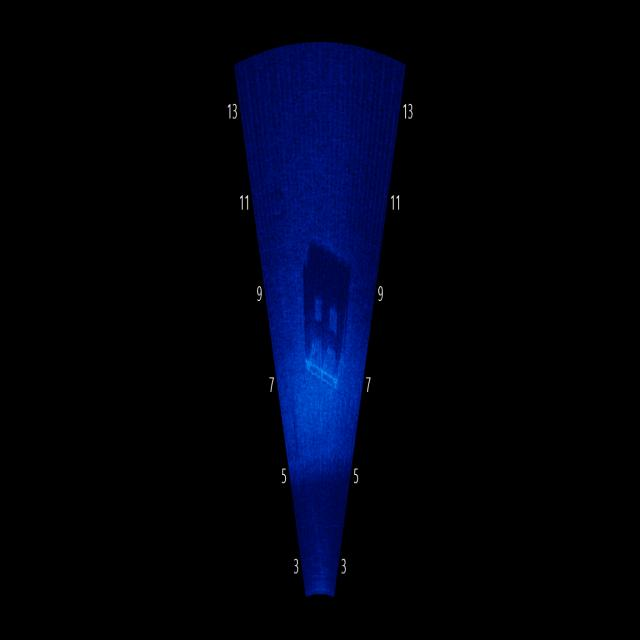square: (295, 312, 347, 388)
